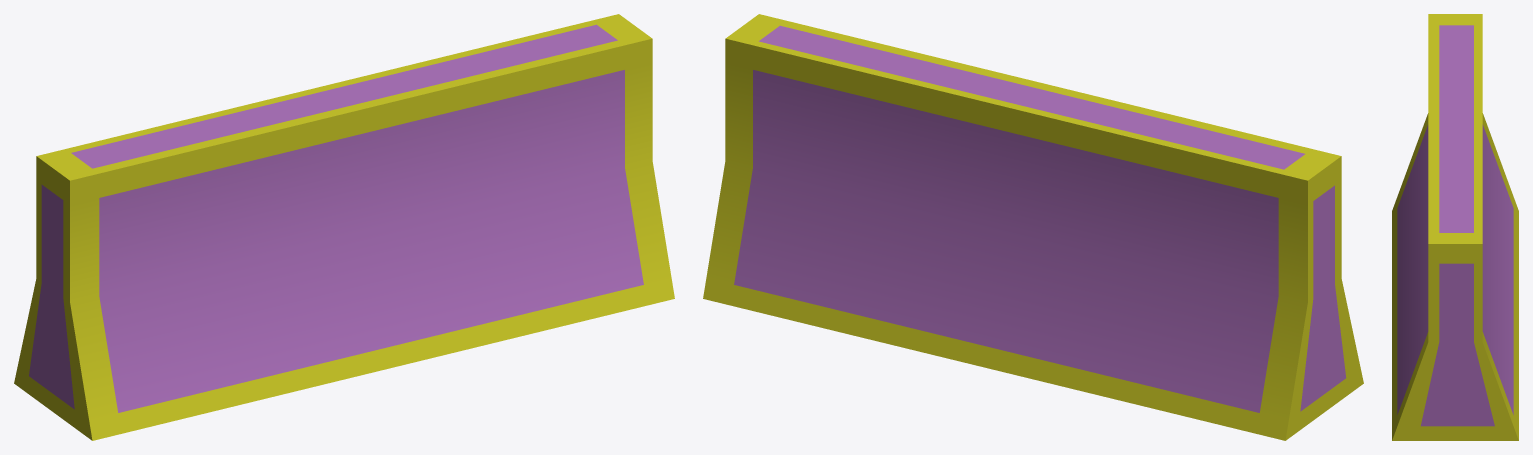
File: Berrier.fbx
The picture shows the model from 3 angles, left to right: view 1: azimuth 30°, elevation 25°; view 2: azimuth 150°, elevation 25°; view 3: azimuth 270°, elevation 25°; orthographic projection. The views are drawn at different scales.
Parts seen in each view (by area): view 1: Barrier; view 2: Barrier; view 3: Barrier.
Part boxes in pixels (box(x1,y1,x2,y2)): Barrier: box(14, 14, 674, 440); Barrier: box(703, 14, 1363, 440); Barrier: box(1392, 14, 1518, 440).
Size of the model in its own units: 5 by 2 by 1.17.
